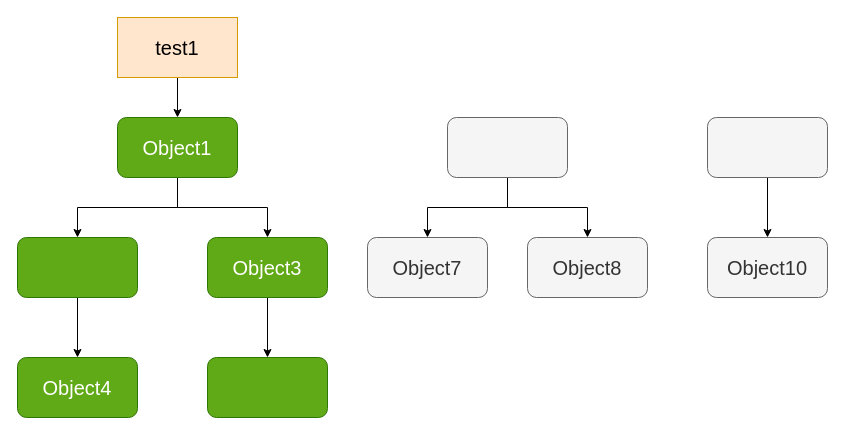
Some shapes in this 845 by 435 pixel diagram are drawn without their labels. The centre of each missing label's shape, as x and y in pixels:
"Object2" belongs at [77,267].
"Object5" belongs at [267,387].
"Object6" belongs at [507,147].
"Object9" belongs at [767,147].
